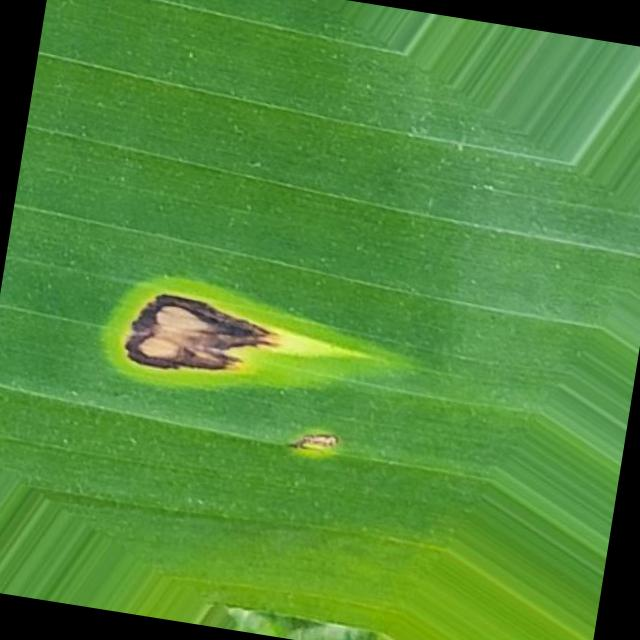Banana_Black_Sigatoka: (48, 227, 514, 481)
